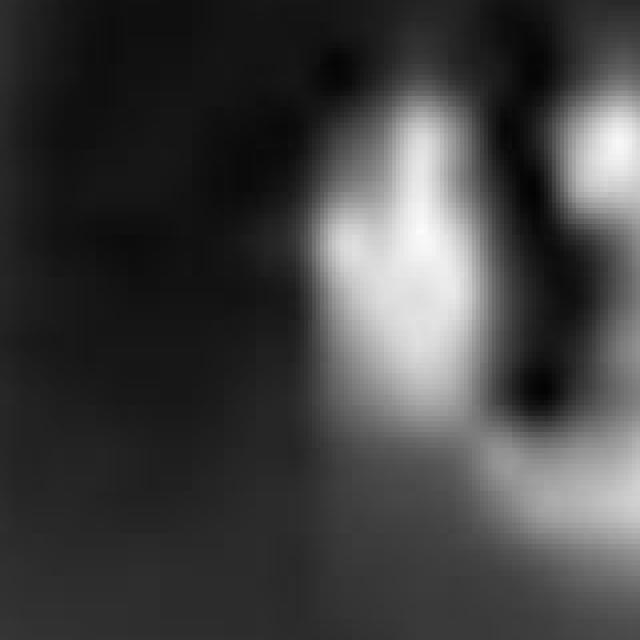person: (278, 55, 498, 422), (521, 97, 640, 577)
